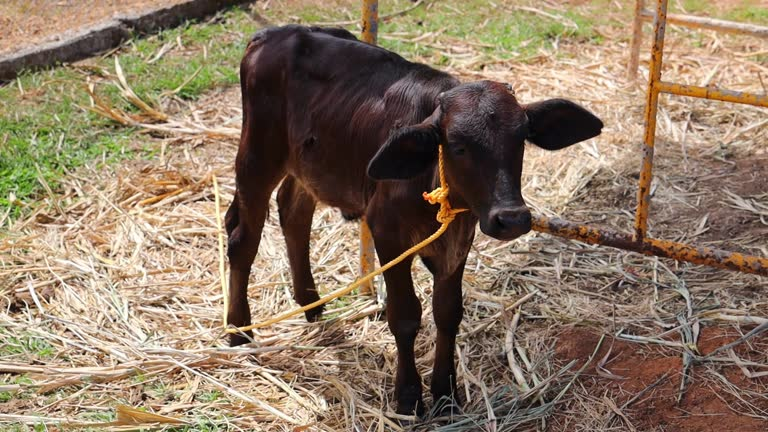cow: (147, 16, 581, 427)
